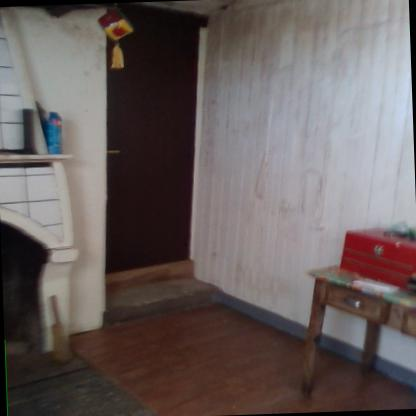closed: (97, 2, 227, 332)
